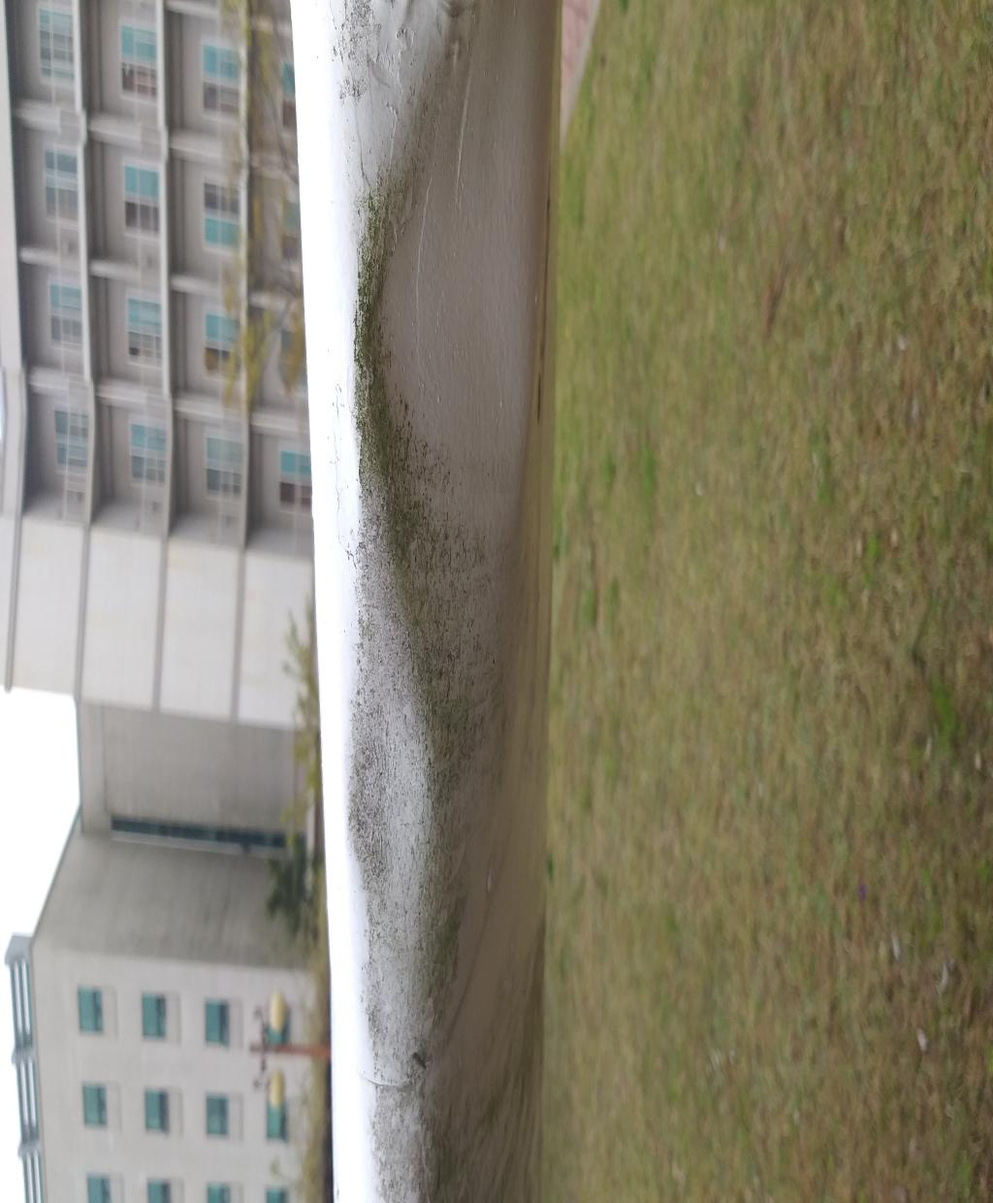dent: (268, 748, 558, 1169), (121, 734, 283, 953)
